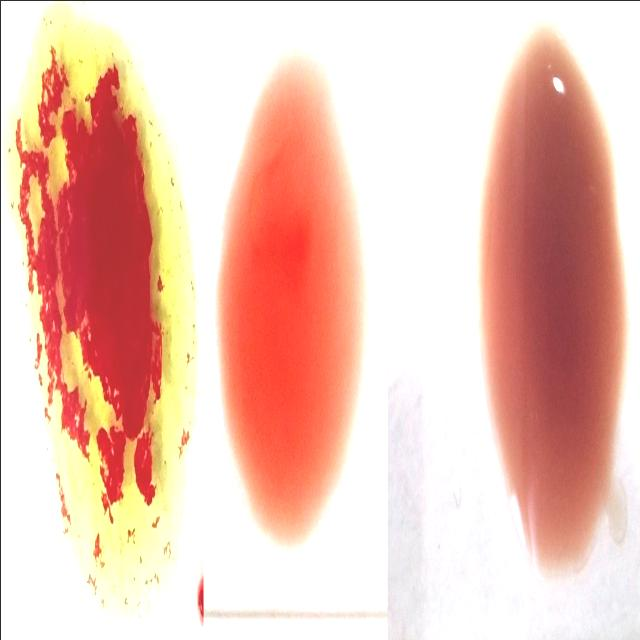B: (16, 14, 197, 619)
